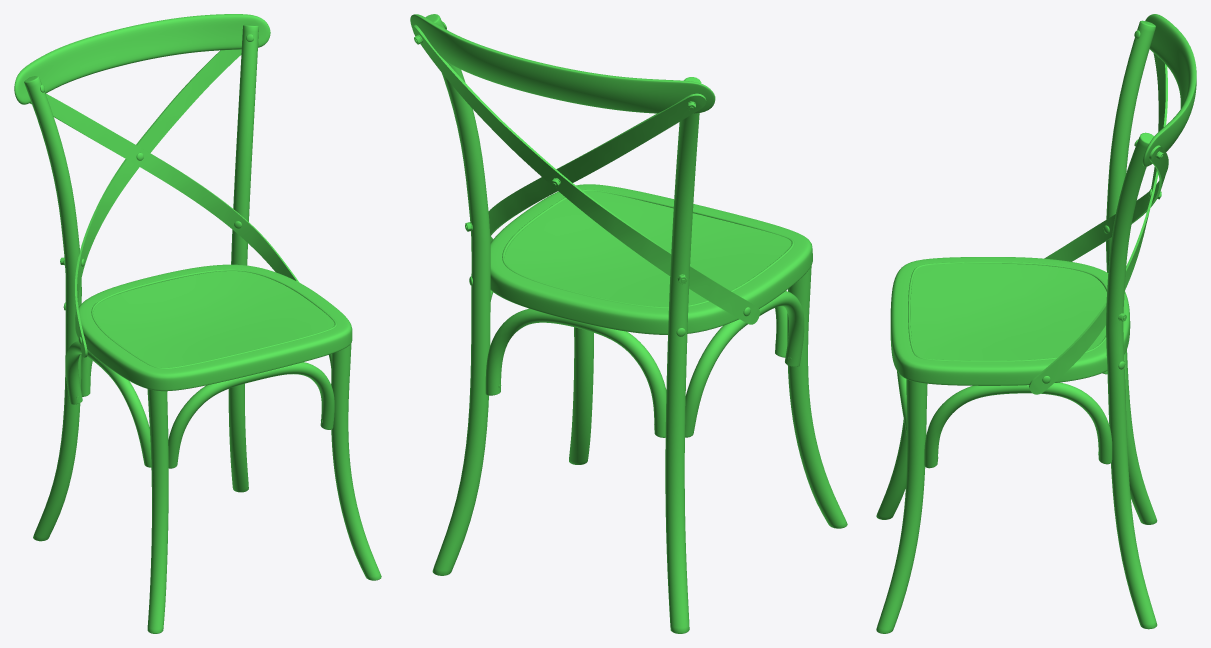
3 views of the same model, side by side, from view 1: azimuth 30°, elevation 25°; view 2: azimuth 150°, elevation 25°; view 3: azimuth 270°, elevation 25° (orthographic). The views are drawn at different scales.
Visible parts, largest first — view 1: TRISTAN_CHAIR, Object001; view 2: TRISTAN_CHAIR, Object001; view 3: TRISTAN_CHAIR, Object001.
Boxes of the visible parts, x1,y1,x2,y2 form: TRISTAN_CHAIR: (14, 14, 381, 633); Object001: (93, 271, 334, 367); TRISTAN_CHAIR: (410, 14, 847, 633); Object001: (505, 191, 791, 306); TRISTAN_CHAIR: (876, 14, 1196, 633); Object001: (910, 263, 1106, 360).
Bounding box in the file's own units: 50.12 × 87.79 × 50.95.
